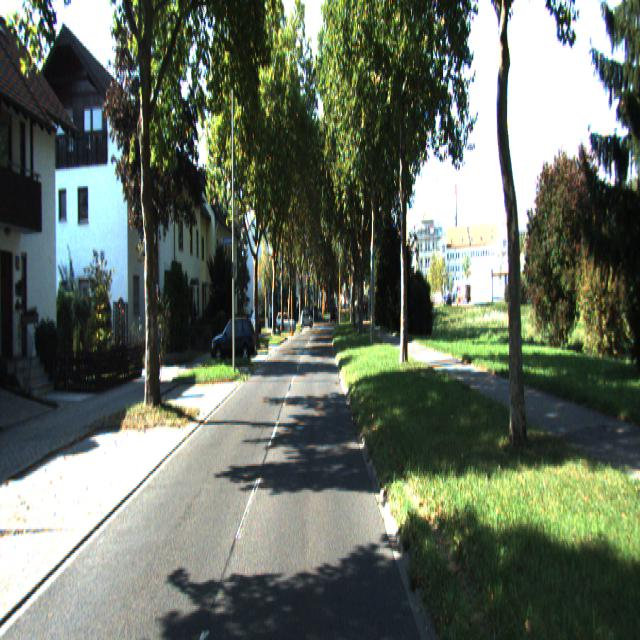Car: (209, 316, 255, 367)
